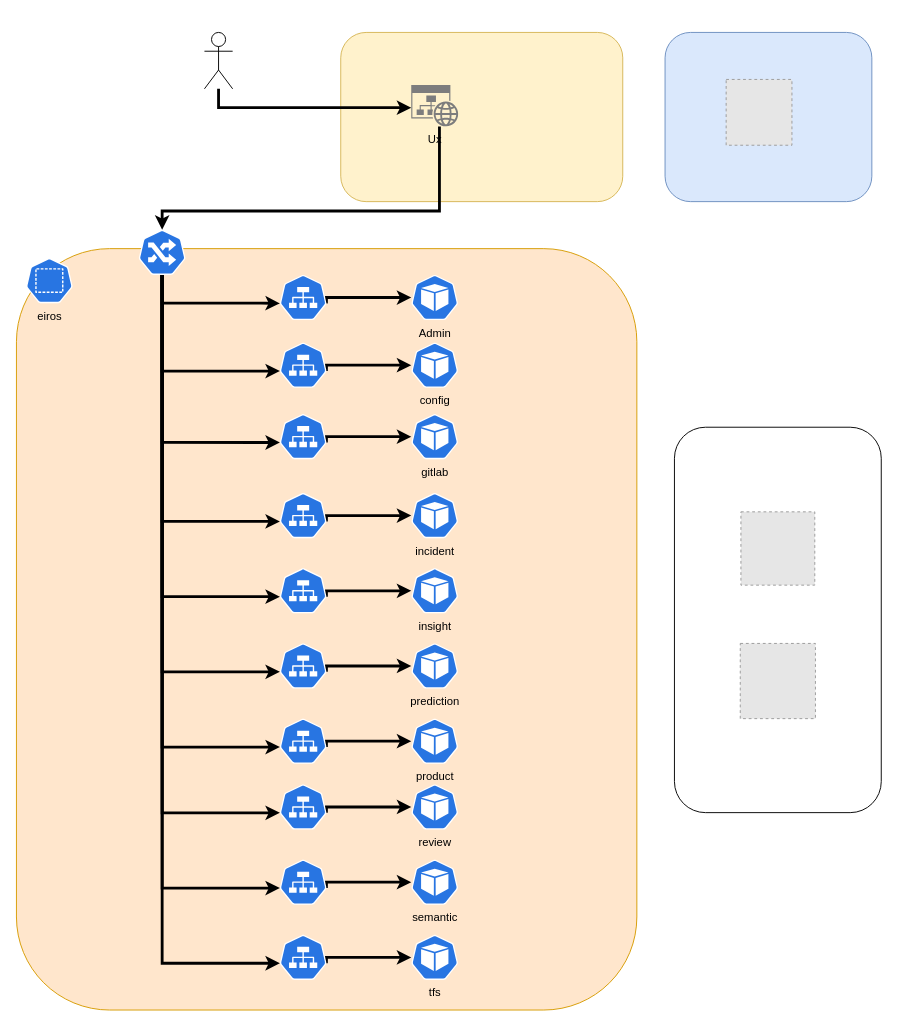
The diagram is 898 pixels wide and 1026 high, and some of its shapes have lost their labels. Grey dashed boxes stand in for pictures. The box of each missing label's shape, as (x1, y1, x2, y2) in pixels:
3rd Party: (664, 31, 872, 202)
Actor: (204, 31, 233, 89)
Databases: (674, 426, 881, 813)
PCF: (340, 31, 623, 202)
PKS: (16, 248, 637, 1010)
